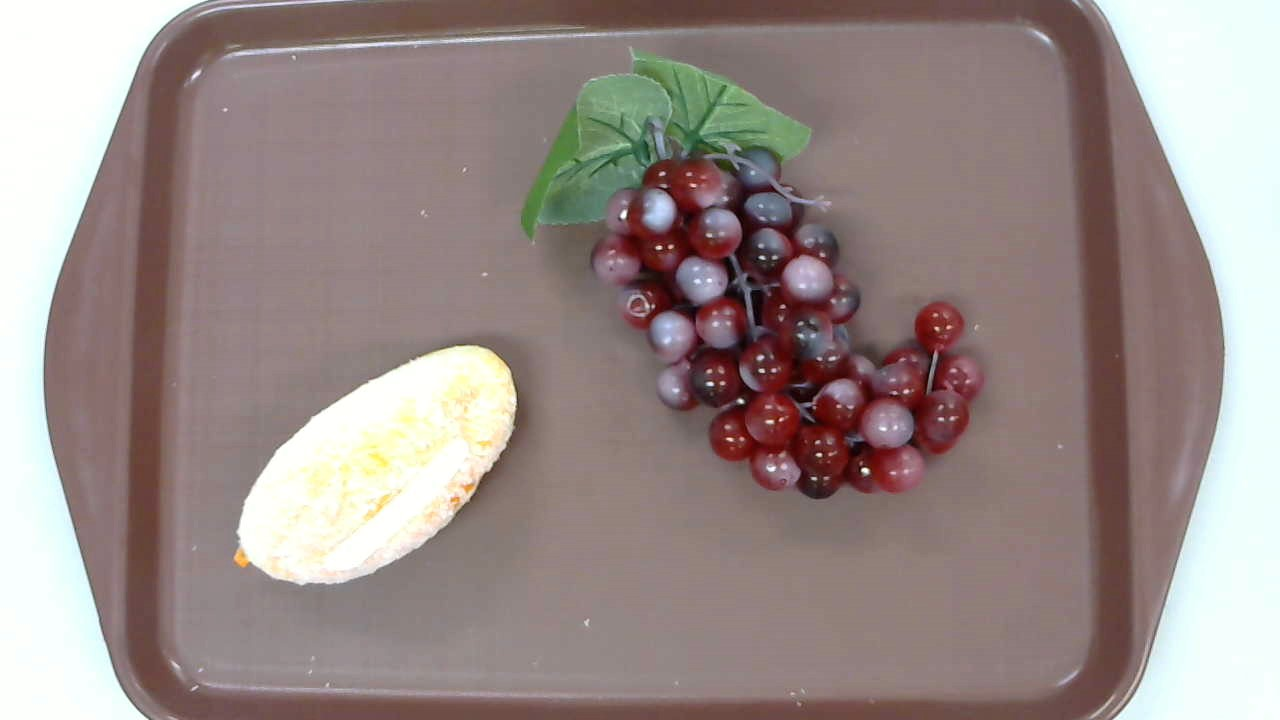coconut: (233, 344, 516, 588)
grape: (522, 49, 985, 503)
